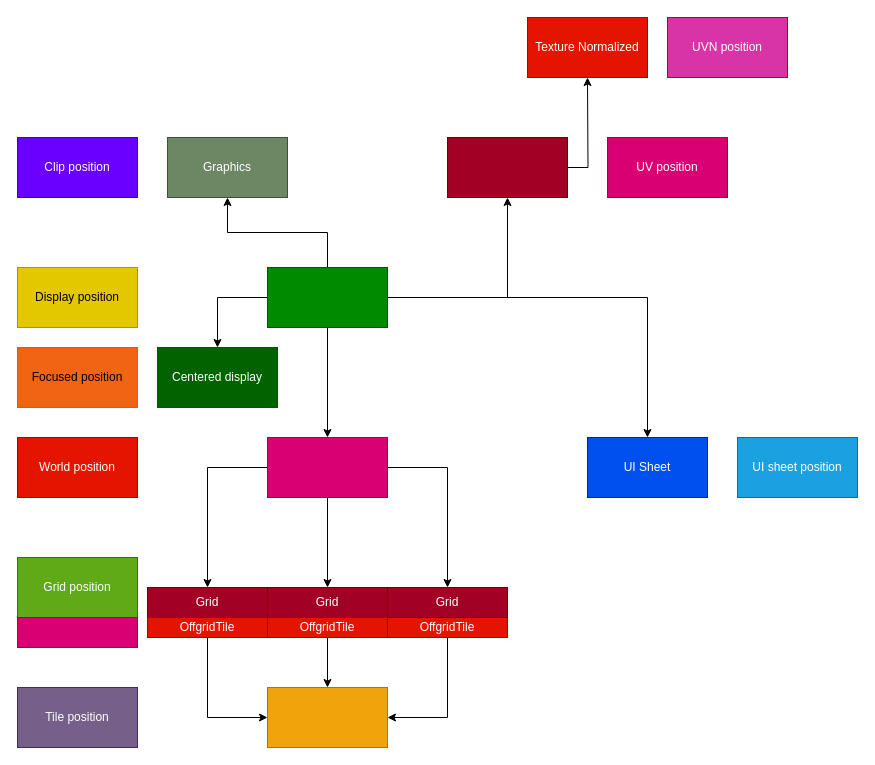
This 875x765 diagram has some shape labels left out. The box of each missing label's shape, as (x1, y1, x2, y2) in pixels:
Display: (266, 266, 388, 328)
Offgrid tile position: (16, 616, 138, 648)
Textures: (446, 136, 568, 198)
Tile: (266, 686, 388, 748)
World: (266, 436, 388, 498)
